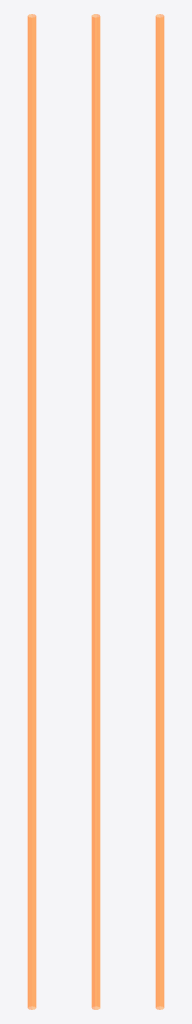
Rendered from FrsSaeule_Orange.gltf.
3 views of the same model, side by side, from view 1: azimuth 90°, elevation 25°; view 2: azimuth 210°, elevation 25°; view 3: azimuth 270°, elevation 25° (orthographic).
Parts seen in each view (by area): view 1: frs_saeule_orange; view 2: frs_saeule_orange; view 3: frs_saeule_orange.
Boxes of the visible parts, x1,y1,x2,y2 form: frs_saeule_orange: (27,14,36,1009); frs_saeule_orange: (91,14,100,1009); frs_saeule_orange: (155,14,164,1009).
Size of the model in its own units: 0.8 by 100 by 0.8.
